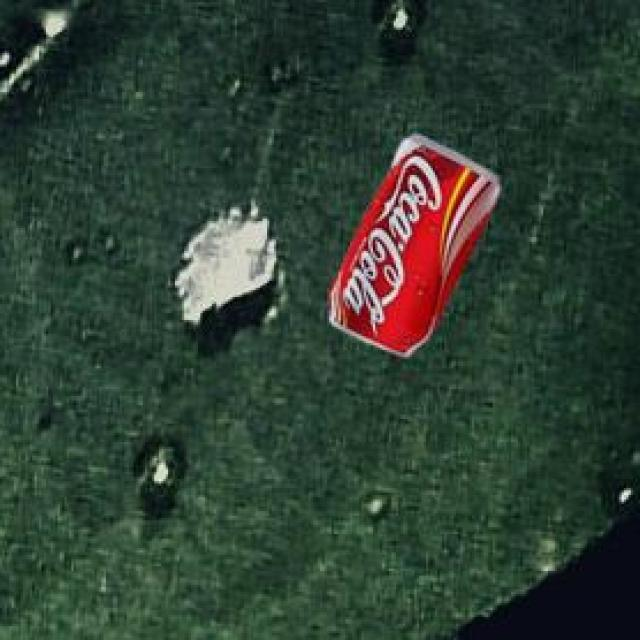logam: (333, 139, 503, 360)
